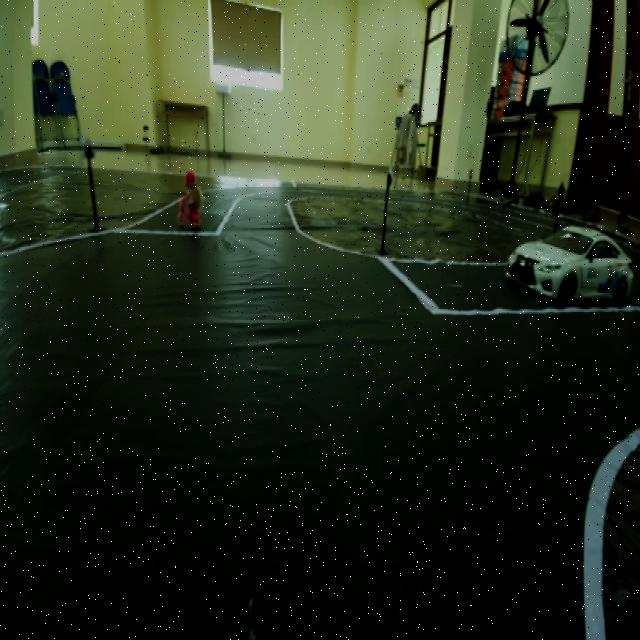car: (506, 215, 621, 303)
